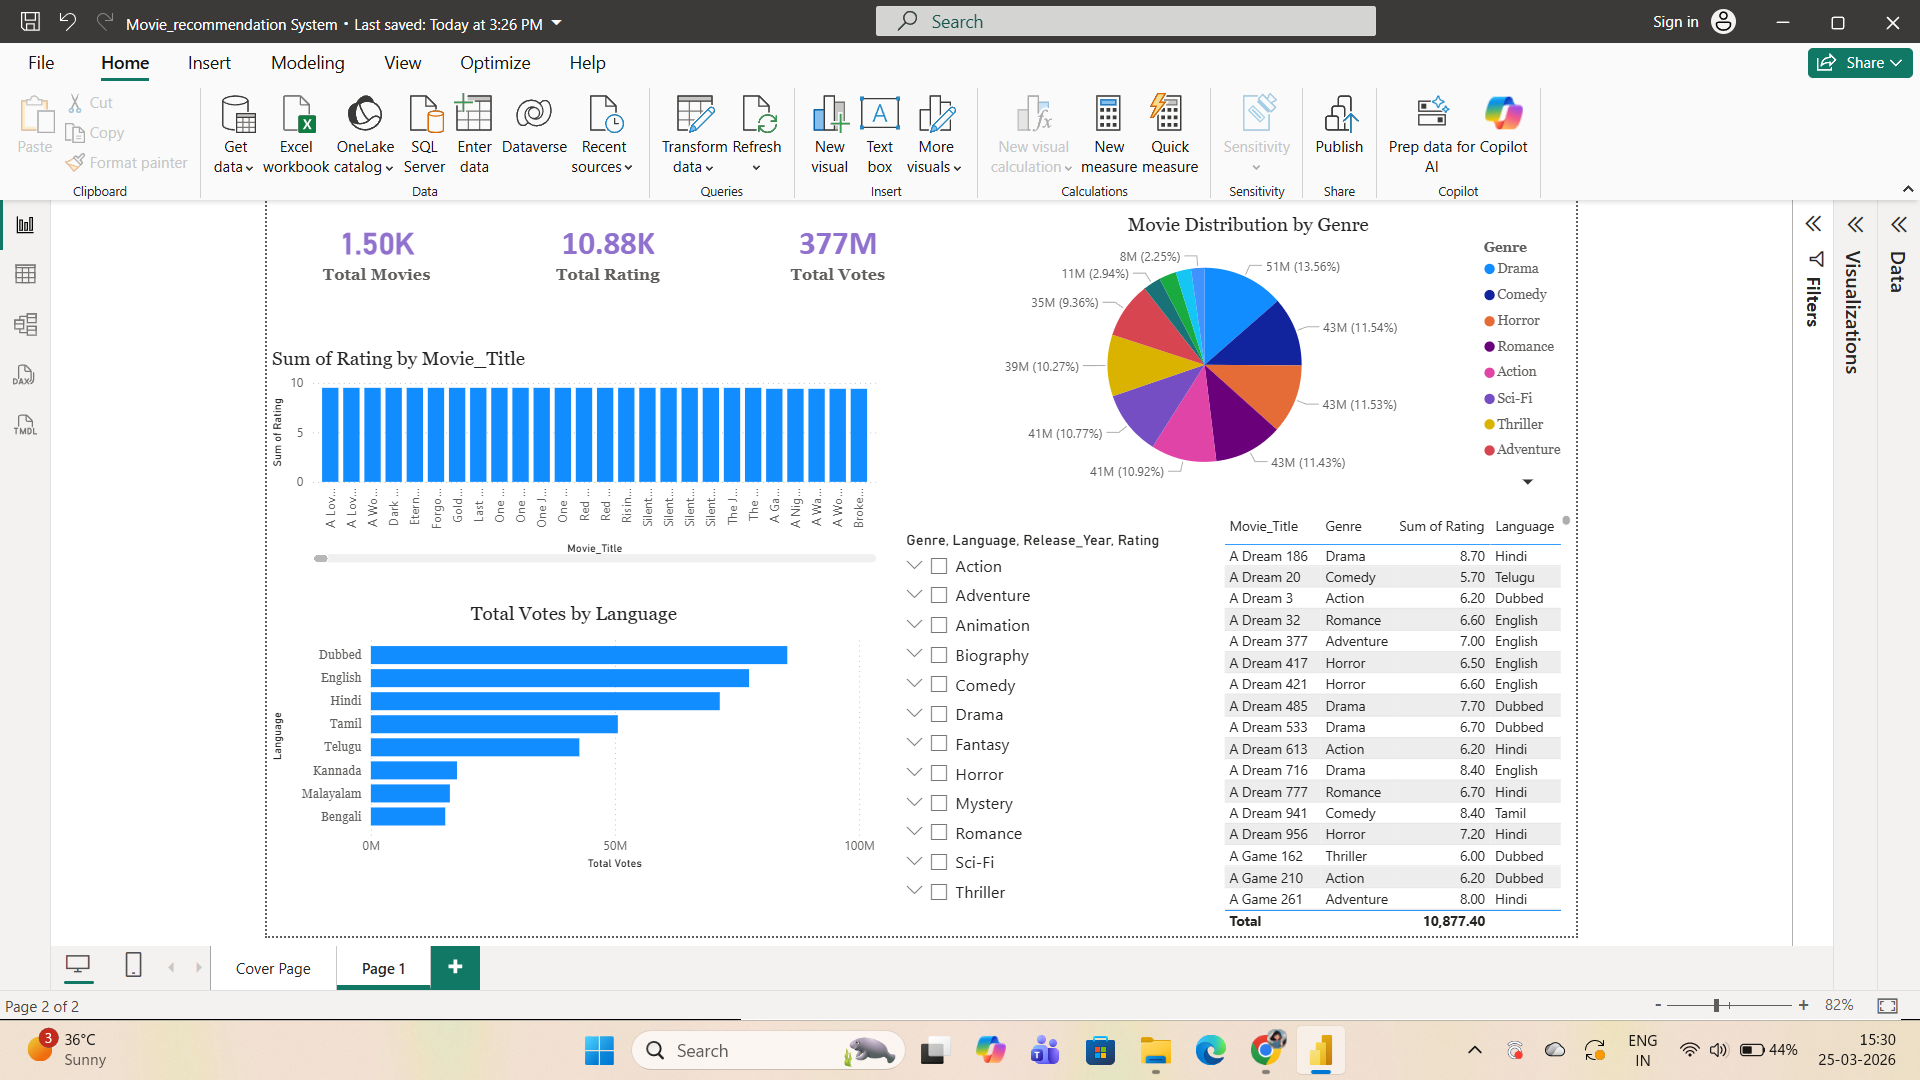

This screenshot's page, from the dashboard's own definition file:
{"tool":"powerbi","page":{"name":"Page 1","canvas":[1280,720],"ordinal":1},"visuals":[{"type":"card","fields":{"Values":["Sum(Movie_Recommendation_Dashboard.Rating)"]},"box":[232.3,13.5,203,73.4],"z":0},{"type":"pieChart","title":"Movie Distribution by Genre","fields":{"Category":["Movie_Recommendation_Dashboard.Genre"],"Y":["Sum(Movie_Recommendation_Dashboard.Votes)"]},"box":[639.5,13.5,640.8,275.1],"z":1000},{"type":"clusteredBarChart","fields":{"Category":["Movie_Recommendation_Dashboard.Language"],"Y":["Sum(Movie_Recommendation_Dashboard.Votes)"]},"box":[0,393.8,600.4,266.6],"z":2000},{"type":"lineStackedColumnComboChart","fields":{"Category":["Movie_Recommendation_Dashboard.Movie_Title"],"Y":["Sum(Movie_Recommendation_Dashboard.Rating)"]},"box":[0,144.1,601,215.4],"z":3000},{"type":"card","fields":{"Values":["Sum(Movie_Recommendation_Dashboard.Votes)"]},"box":[451.2,13.5,215.2,73.4],"z":4000},{"type":"card","fields":{"Values":["CountNonNull(Movie_Recommendation_Dashboard.Movie_ID)"]},"box":[0,13.5,215.2,73.4],"z":5000},{"type":"slicer","fields":{"Values":["Movie_Recommendation_Dashboard.Genre","Movie_Recommendation_Dashboard.Language","Movie_Recommendation_Dashboard.Release_Year","Movie_Recommendation_Dashboard.Rating"]},"box":[612.6,319.2,304.5,385.2],"z":6000},{"type":"tableEx","fields":{"Values":["Movie_Recommendation_Dashboard.Movie_Title","Movie_Recommendation_Dashboard.Genre","Sum(Movie_Recommendation_Dashboard.Rating)","Movie_Recommendation_Dashboard.Language"]},"box":[930.6,303.3,349.7,417],"z":7000}]}

Visuals, with their boxes on the page's 1280x720 design canvas (x1, y1, x2, y2). These are canvas units, not pixel positions in the 1920x1080 screenshot, which may show the page scaled, cropped or inside an application window:
card - Sum(Movie_Recommendation_Dashboard.Rating): x1=232, y1=14, x2=435, y2=87
"Movie Distribution by Genre" pieChart: x1=640, y1=14, x2=1280, y2=289
clusteredBarChart - Movie_Recommendation_Dashboard.Language x Sum(Movie_Recommendation_Dashboard.Votes): x1=0, y1=394, x2=600, y2=660
lineStackedColumnComboChart - Movie_Recommendation_Dashboard.Movie_Title x Sum(Movie_Recommendation_Dashboard.Rating): x1=0, y1=144, x2=601, y2=360
card - Sum(Movie_Recommendation_Dashboard.Votes): x1=451, y1=14, x2=666, y2=87
card - CountNonNull(Movie_Recommendation_Dashboard.Movie_ID): x1=0, y1=14, x2=215, y2=87
slicer - Movie_Recommendation_Dashboard.Genre x Movie_Recommendation_Dashboard.Language: x1=613, y1=319, x2=917, y2=704
tableEx - Movie_Recommendation_Dashboard.Movie_Title x Movie_Recommendation_Dashboard.Genre: x1=931, y1=303, x2=1280, y2=720
